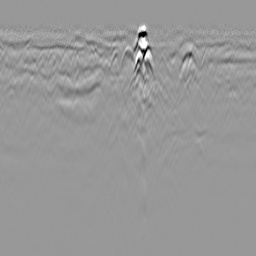cavity: (120, 43, 136, 69)
